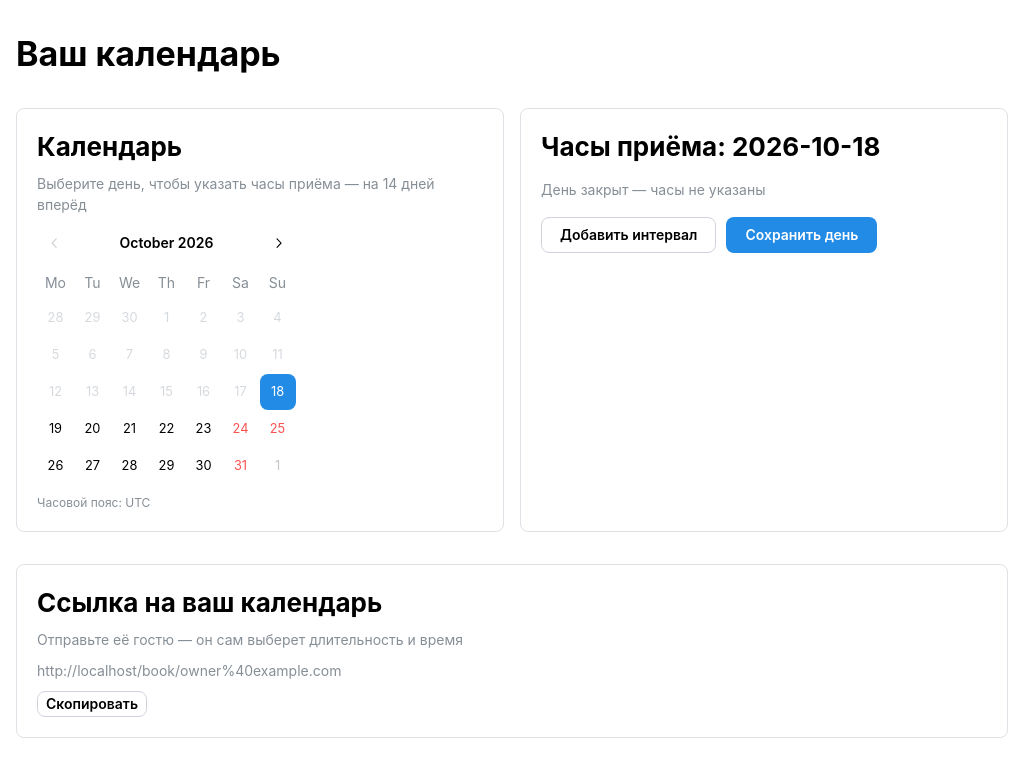
Test: кабинет владельца: календарь доступности › сохраняет добавленный интервал как UTC-инстанты
expect the text "День закрыт — часы не указаны" is shown: met, box [541, 181, 766, 198]
Click the button "Добавить интервал": point(629, 235) [541, 217, 716, 253]
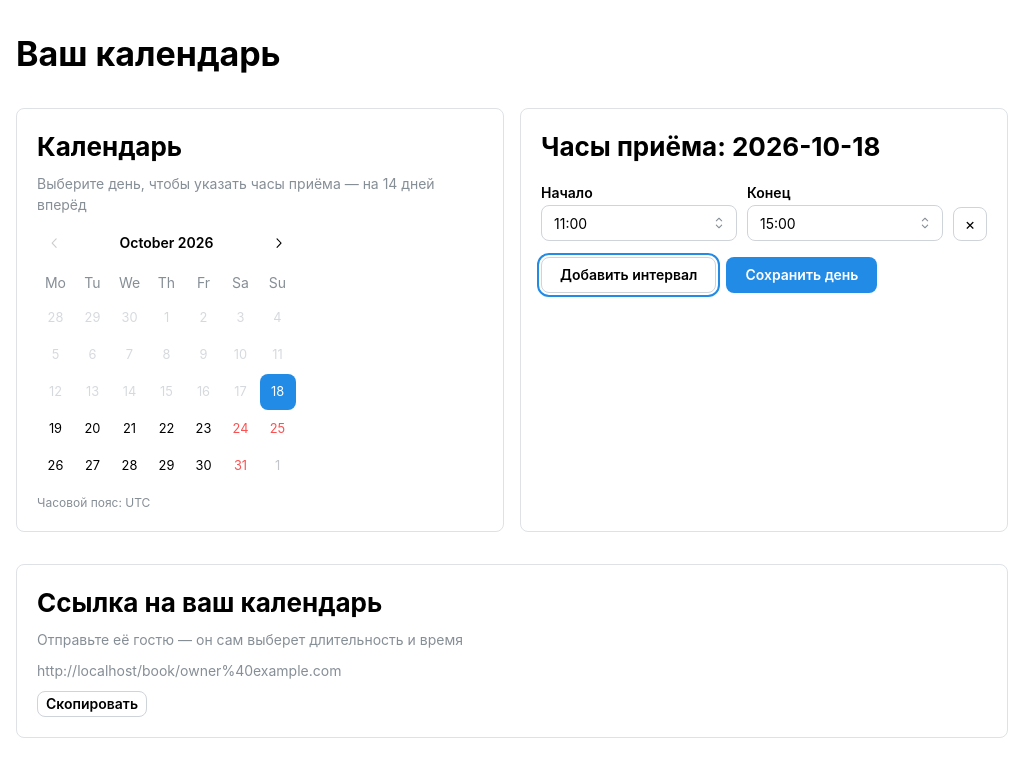
Click the button "Сохранить день": point(802, 275) [726, 257, 877, 293]
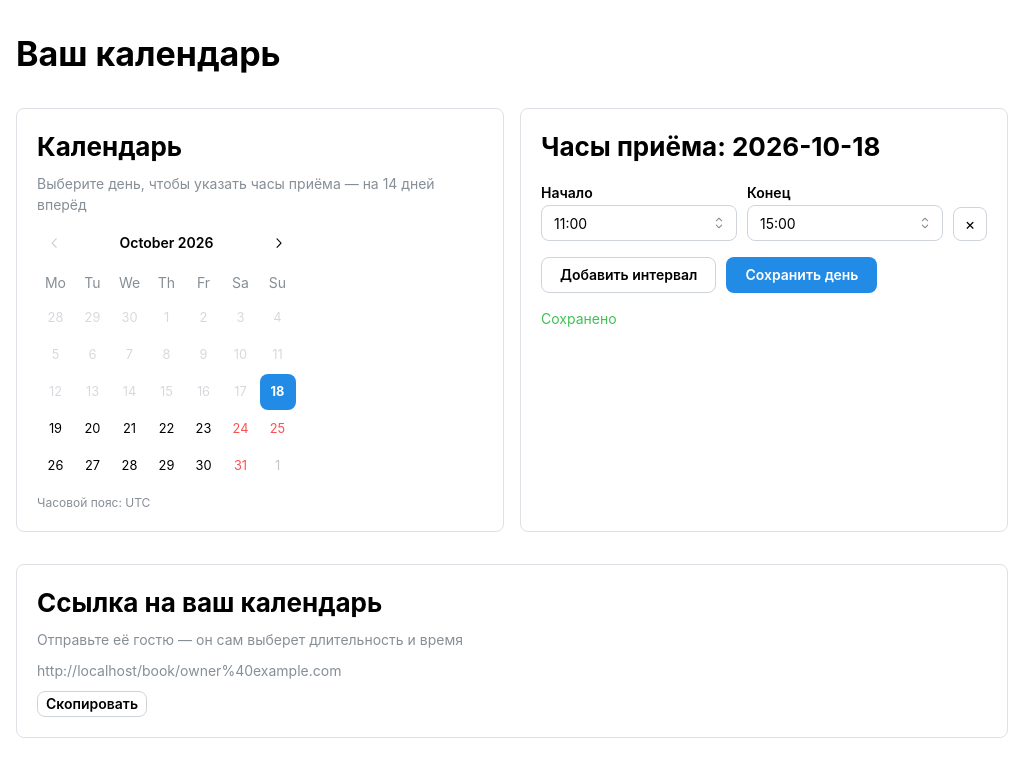
expect the text "Сохранено" is shown: met, box [541, 310, 617, 327]
